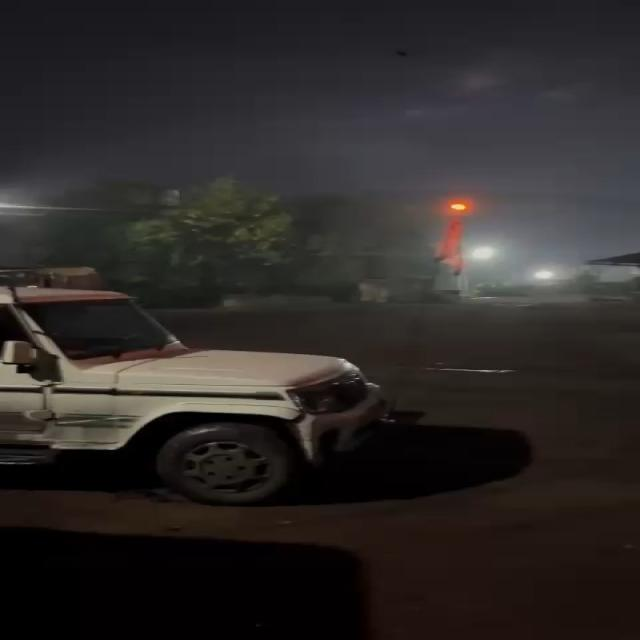light_vehicle: (0, 276, 390, 504)
